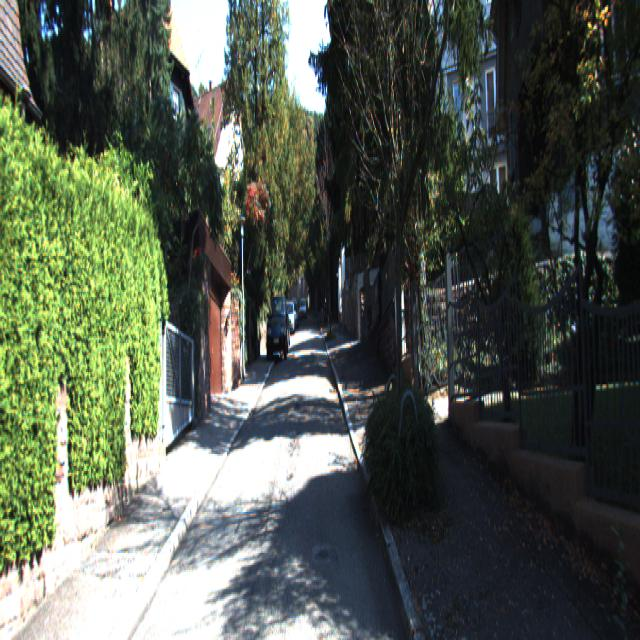Car: (266, 290, 288, 362), (285, 300, 296, 336)
